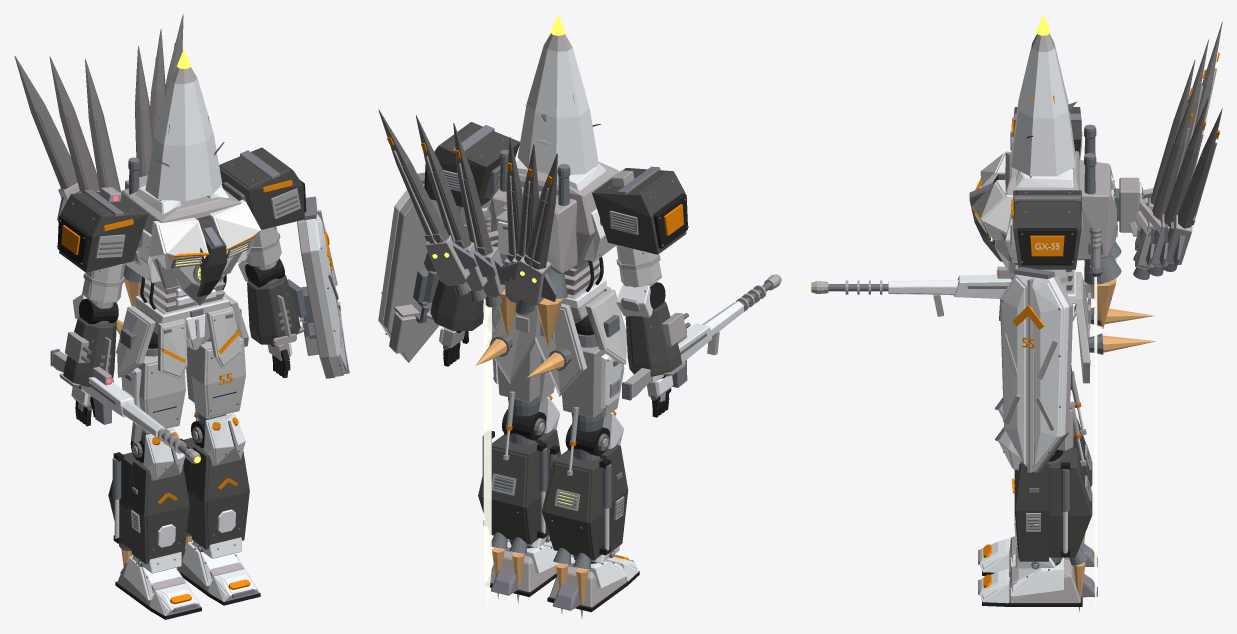
File: MGSUGE_Vesper_Mech.fbx
The picture shows the model from 3 angles, left to right: view 1: azimuth 30°, elevation 25°; view 2: azimuth 150°, elevation 25°; view 3: azimuth 270°, elevation 25°; orthographic projection. The views are drawn at different scales.
Visible parts, largest first — view 1: Torso_Mesh, Knee_R_Mesh, Knee_L_Mesh, Shoulder_R_Mesh, Nose_Mesh, Shoulder_L_Mesh, Shield_Mesh, Elbow_L_Mesh, Elbow_R_Mesh, Hip_L_Mesh, Rifle_Mesh, Hip_R_Mesh (+16 smaller); view 2: Knee_R_Mesh, Knee_L_Mesh, Shoulder_R_Mesh, Nose_Mesh, Shield_Mesh, Elbow_R_Mesh, Skirt_Back_Mesh, Pack_Mesh, Probe_3_Mesh, Hip_R_Mesh, Torso_Mesh, Shoulder_L_Mesh (+16 smaller); view 3: Shield_Mesh, Knee_L_Mesh, Nose_Mesh, Pack_Mesh, Shoulder_L_Mesh, Torso_Mesh, Rifle_Mesh, Ankle_L_Mesh, Probe_3_Mesh, Probe_1_Mesh, Probe_2_Mesh, Blade_Energy (+11 smaller).
Boxes of the visible parts, x1,y1,x2,y2 form: Torso_Mesh: (125, 182, 261, 309); Knee_R_Mesh: (108, 428, 189, 573); Knee_L_Mesh: (180, 413, 249, 558); Shoulder_R_Mesh: (57, 187, 148, 308); Nose_Mesh: (145, 67, 222, 201); Shoulder_L_Mesh: (219, 147, 306, 270); Shield_Mesh: (297, 196, 349, 378); Elbow_L_Mesh: (238, 258, 306, 346); Elbow_R_Mesh: (59, 294, 118, 389); Hip_L_Mesh: (186, 336, 245, 423); Rifle_Mesh: (50, 349, 201, 463); Hip_R_Mesh: (121, 348, 185, 438); Knee_R_Mesh: (542, 410, 628, 569); Knee_L_Mesh: (478, 395, 560, 553); Shoulder_R_Mesh: (592, 166, 688, 287); Nose_Mesh: (517, 33, 598, 175); Shield_Mesh: (378, 172, 443, 362); Elbow_R_Mesh: (616, 282, 690, 378); Skirt_Back_Mesh: (492, 303, 586, 396); Pack_Mesh: (491, 149, 577, 299); Probe_3_Mesh: (378, 109, 477, 295); Hip_R_Mesh: (562, 334, 624, 475); Torso_Mesh: (484, 160, 619, 291); Shoulder_L_Mesh: (424, 122, 519, 236); Shield_Mesh: (1000, 267, 1073, 472); Knee_L_Mesh: (995, 427, 1092, 569); Nose_Mesh: (1011, 34, 1075, 176); Pack_Mesh: (1077, 124, 1167, 284); Shoulder_L_Mesh: (1010, 190, 1082, 292); Torso_Mesh: (969, 150, 1079, 272); Rifle_Mesh: (810, 266, 1094, 320); Ankle_L_Mesh: (1008, 557, 1097, 606); Probe_3_Mesh: (1161, 108, 1222, 271); Probe_1_Mesh: (1133, 87, 1195, 279); Probe_2_Mesh: (1147, 96, 1208, 276); Blade_Energy: (1094, 276, 1097, 618).
Size of the model in its own units: 6.22 by 11.86 by 7.58.
